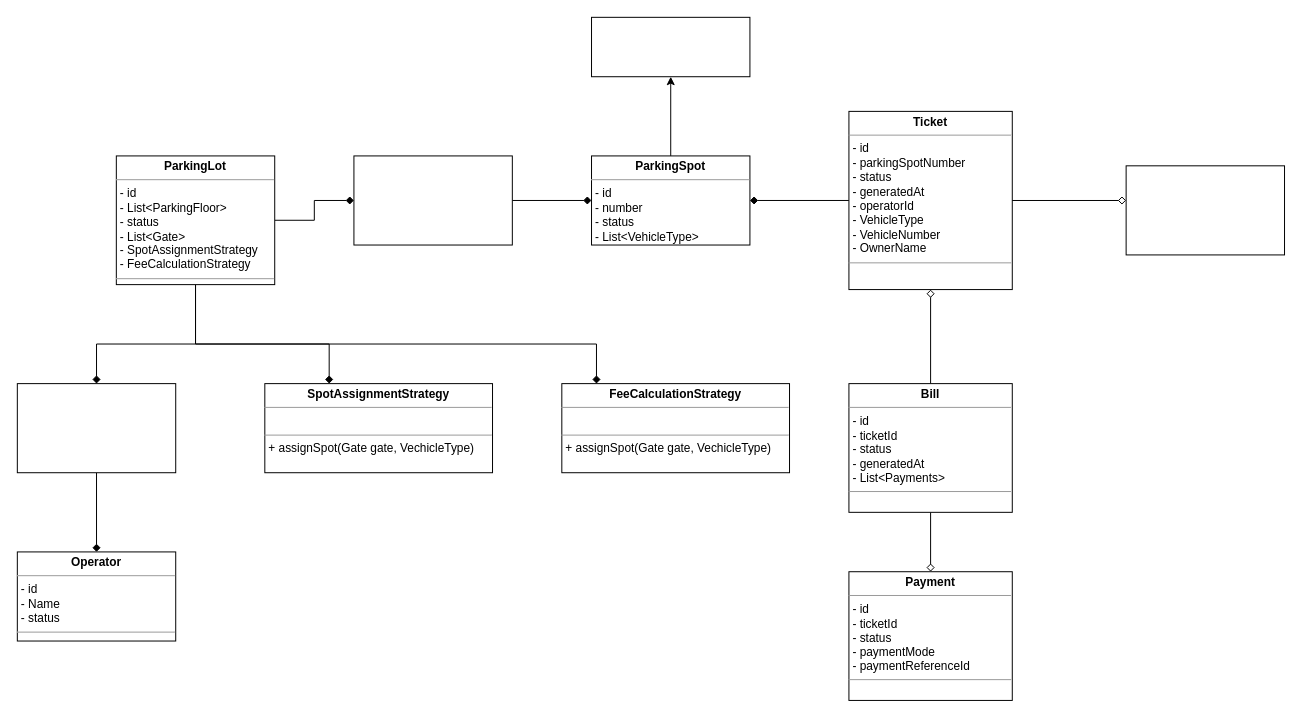
This 1302x718 diagram has some shape labels left out. The shapes that lost their labels are listed below. From the top down, each one's centre as x and y in pixels, then its label:
the point at 670,46: EVParkingLot - chargingPoint
the point at 432,200: ParkingFloor - id - floorNumber - status - List<ParkingSpot>
the point at 1205,210: Vehicle - id - number - status - List<VehicleType>
the point at 96,428: Gate - id - GateType - status - Operator
